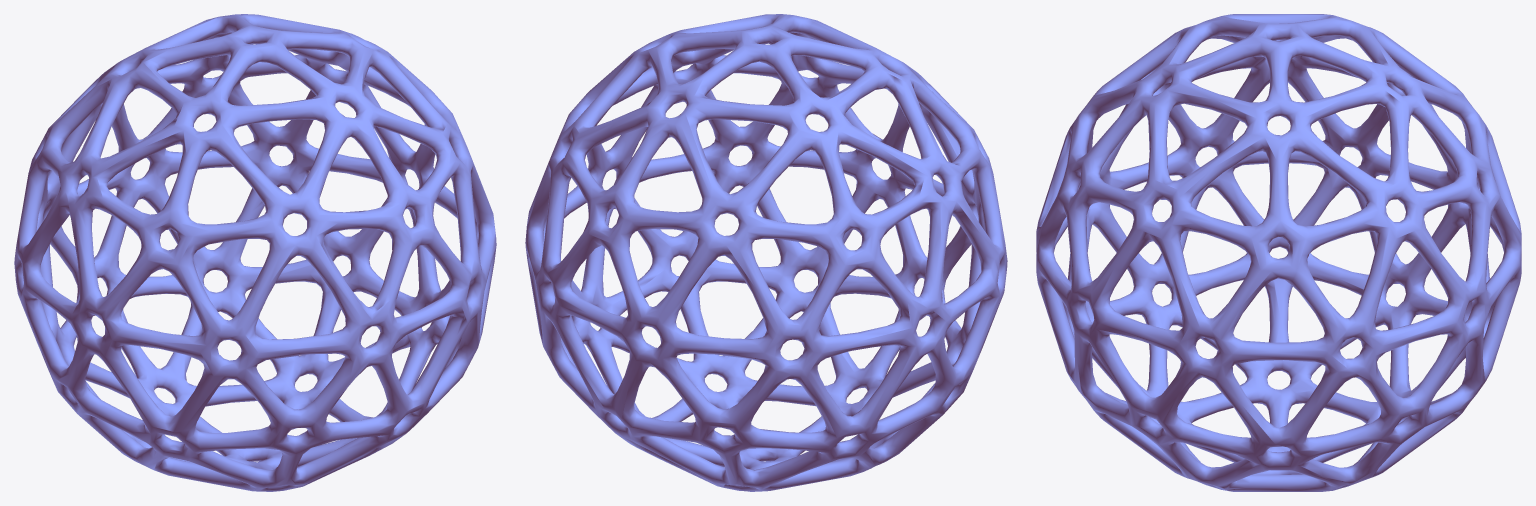
The model's file is icono_r.glb.
3 views of the same model, side by side, from view 1: azimuth 30°, elevation 25°; view 2: azimuth 150°, elevation 25°; view 3: azimuth 270°, elevation 25° (orthographic).
Parts seen in each view (by area): view 1: Icosphere.001; view 2: Icosphere.001; view 3: Icosphere.001.
Part boxes in pixels (box(x1,y1,x2,y2)): Icosphere.001: box(14, 14, 496, 491); Icosphere.001: box(525, 14, 1007, 491); Icosphere.001: box(1036, 14, 1521, 491).
Size of the model in its own units: 0.04 by 0.04 by 0.04.
